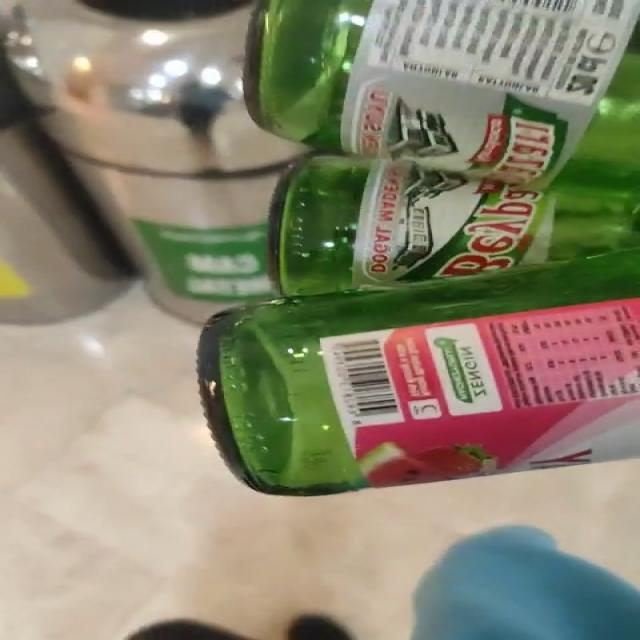glass: (199, 0, 640, 496)
